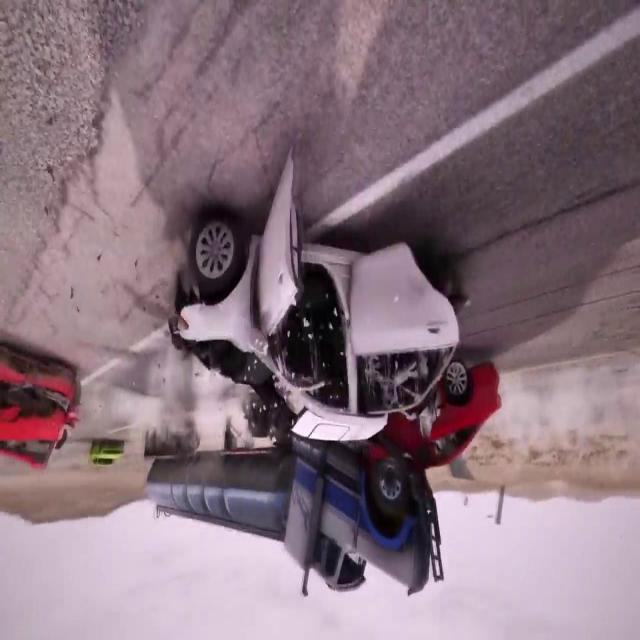severe: (164, 139, 464, 475), (138, 354, 508, 608)
